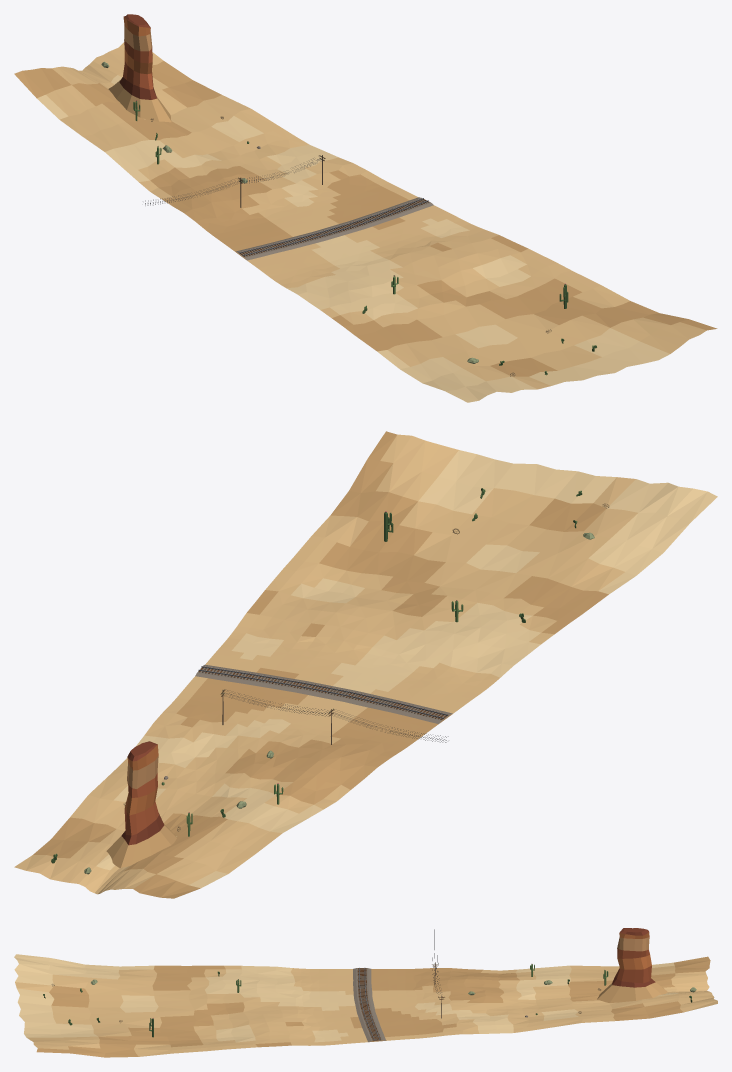
The model's file is SM_FG_Chunk_CurveL_A.fbx.
The picture shows the model from 3 angles, top to bottom: view 1: azimuth 30°, elevation 25°; view 2: azimuth 150°, elevation 25°; view 3: azimuth 270°, elevation 25°; orthographic projection. The views are drawn at different scales.
Parts seen in each view (by area): view 1: FG_Chunk_CurveL_A_Ground, FG_Chunk_CurveL_A_SceneryMid, FG_Chunk_CurveL_A_Track, FG_Chunk_CurveL_A_SceneryNear; view 2: FG_Chunk_CurveL_A_Ground, FG_Chunk_CurveL_A_SceneryMid, FG_Chunk_CurveL_A_Track, FG_Chunk_CurveL_A_SceneryNear; view 3: FG_Chunk_CurveL_A_Ground, FG_Chunk_CurveL_A_SceneryMid, FG_Chunk_CurveL_A_Track, FG_Chunk_CurveL_A_SceneryNear.
Boxes of the visible parts, left/top/right/bottom form: FG_Chunk_CurveL_A_Ground: left=14, top=42, right=717, bottom=402; FG_Chunk_CurveL_A_SceneryMid: left=108, top=14, right=171, bottom=122; FG_Chunk_CurveL_A_Track: left=235, top=197, right=433, bottom=260; FG_Chunk_CurveL_A_SceneryNear: left=101, top=61, right=596, bottom=376; FG_Chunk_CurveL_A_Ground: left=14, top=431, right=717, bottom=898; FG_Chunk_CurveL_A_SceneryMid: left=106, top=741, right=176, bottom=867; FG_Chunk_CurveL_A_Track: left=195, top=664, right=452, bottom=723; FG_Chunk_CurveL_A_SceneryNear: left=51, top=488, right=609, bottom=874; FG_Chunk_CurveL_A_Ground: left=14, top=954, right=717, bottom=1057; FG_Chunk_CurveL_A_SceneryMid: left=597, top=928, right=667, bottom=1002; FG_Chunk_CurveL_A_Track: left=353, top=967, right=386, bottom=1041; FG_Chunk_CurveL_A_SceneryNear: left=43, top=929, right=696, bottom=1037.
Size of the model in its own units: 7956 by 20350 by 2226.
